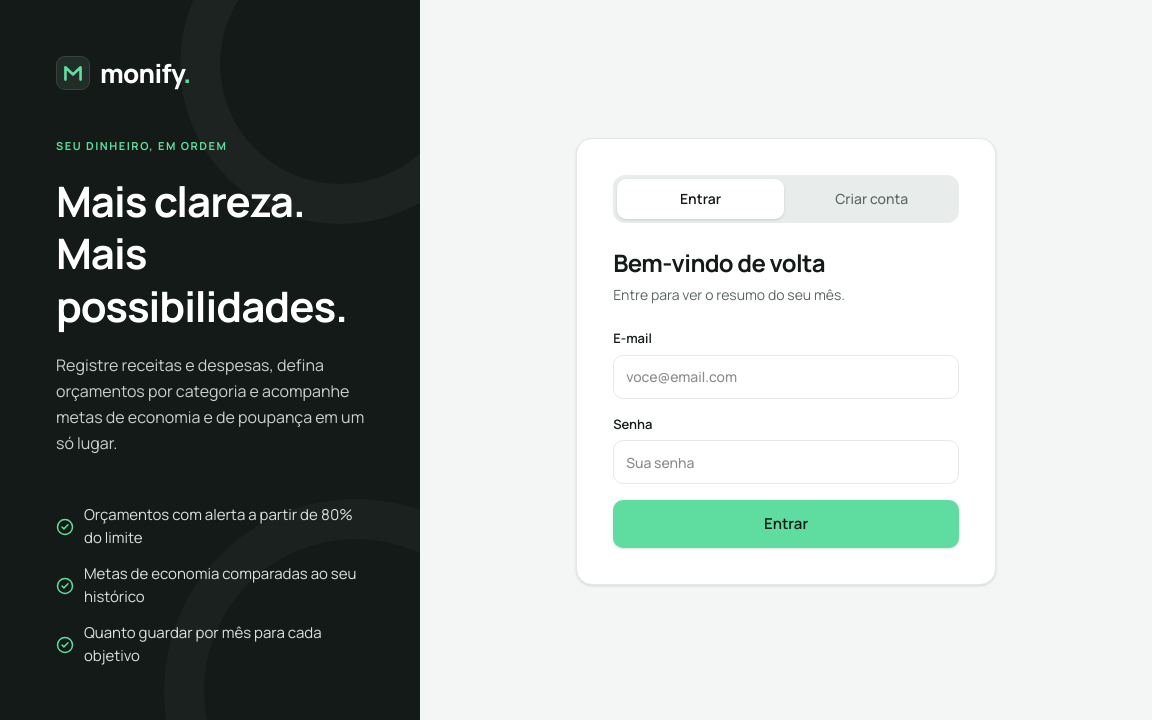
Entrar › deve exigir senha de 8 caracteres ao criar conta
The image size is (1152, 720).
Click the tab "Criar conta": click(872, 199) x1=788 y1=179 x2=955 y2=219
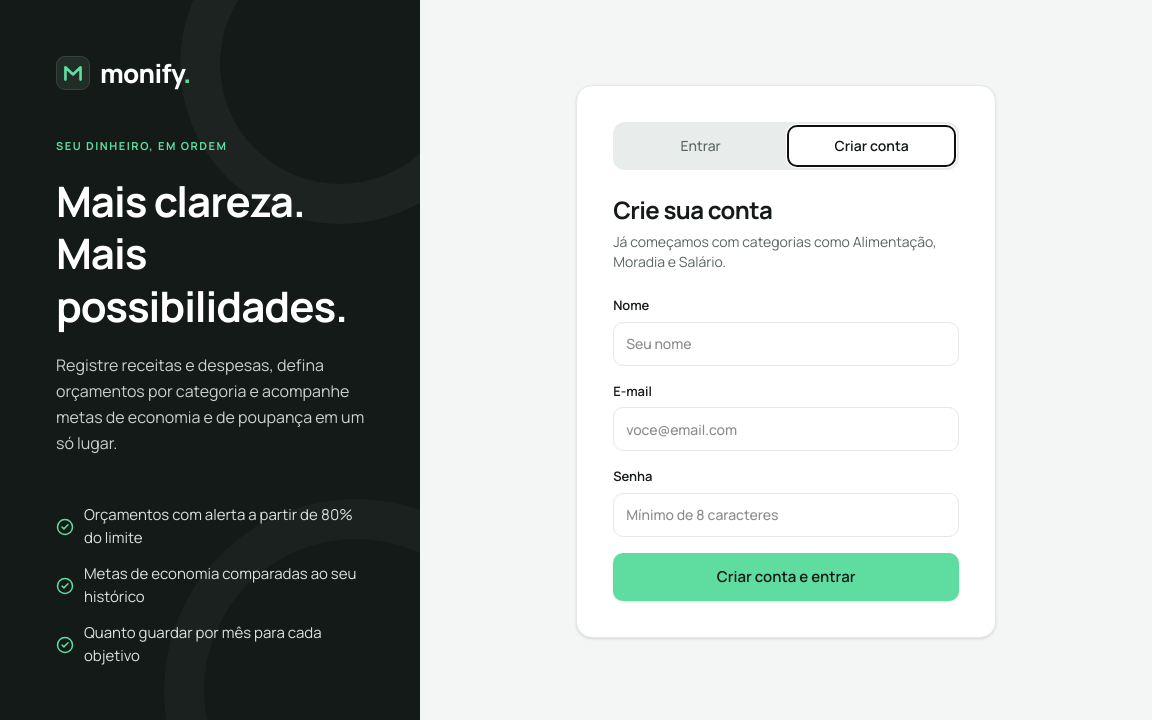
In the field labelled "Nome": (786, 344) x1=613 y1=322 x2=959 y2=366, type "Ana"
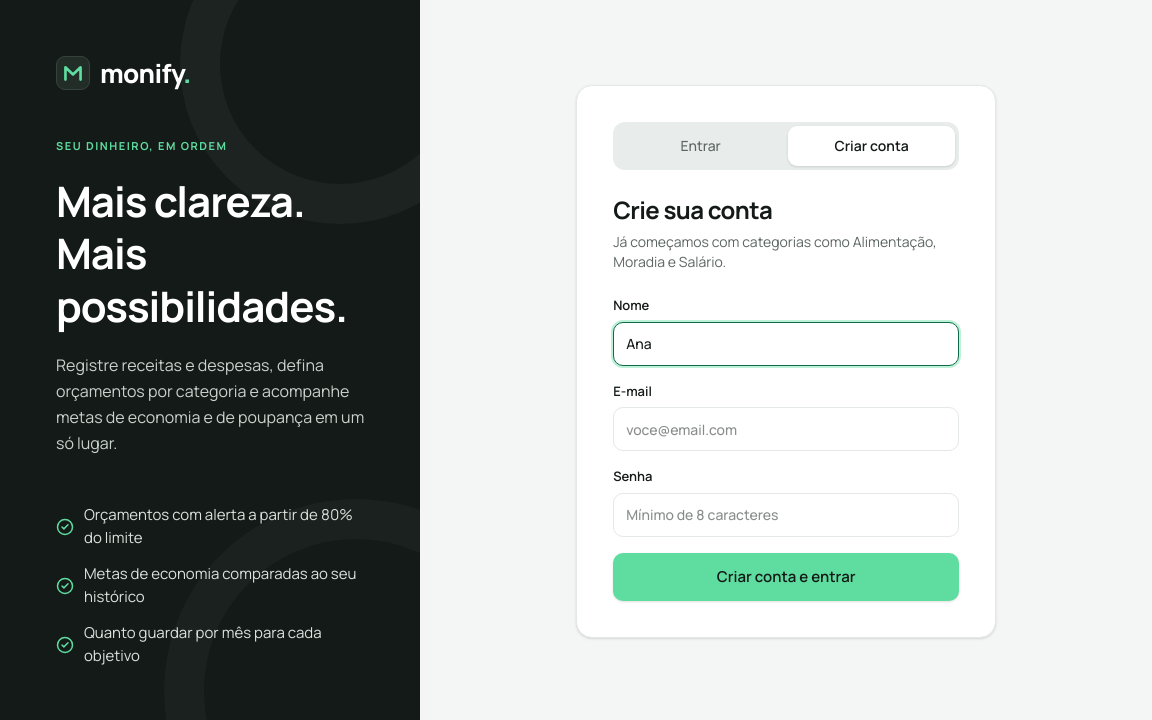
In the field labelled "E-mail": (786, 429) x1=613 y1=407 x2=959 y2=451, type "ana@email.com"
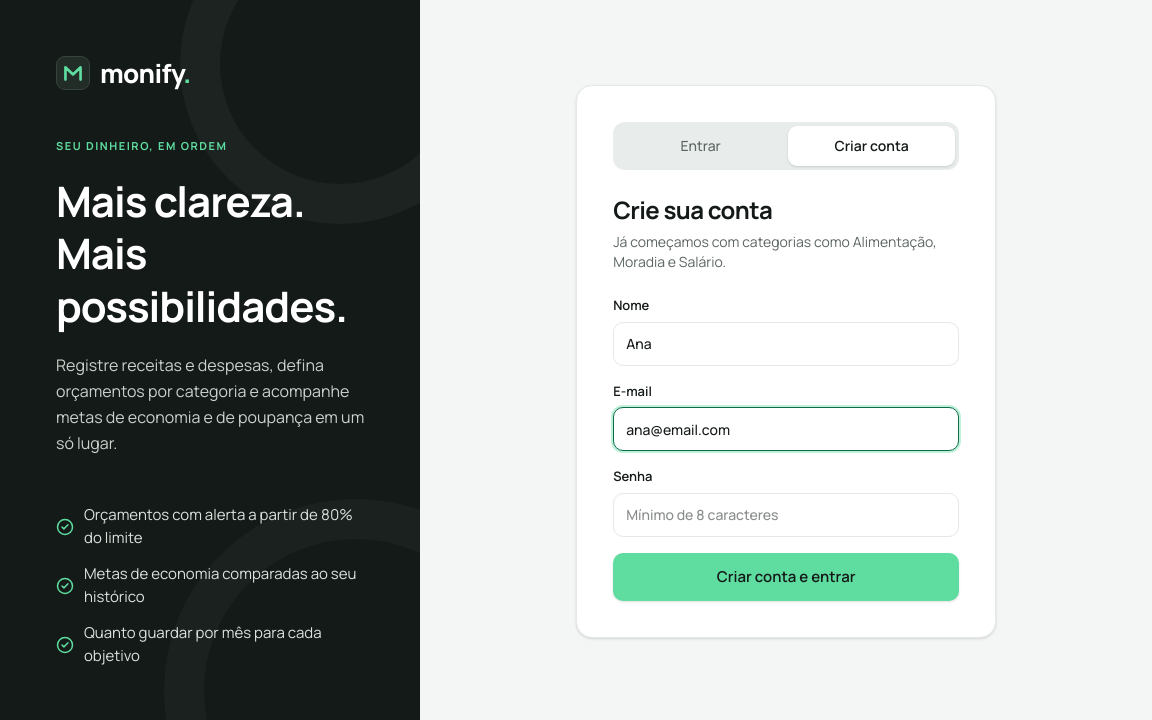
In the password field labelled "Senha": (786, 515) x1=613 y1=493 x2=959 y2=537, type "123456"
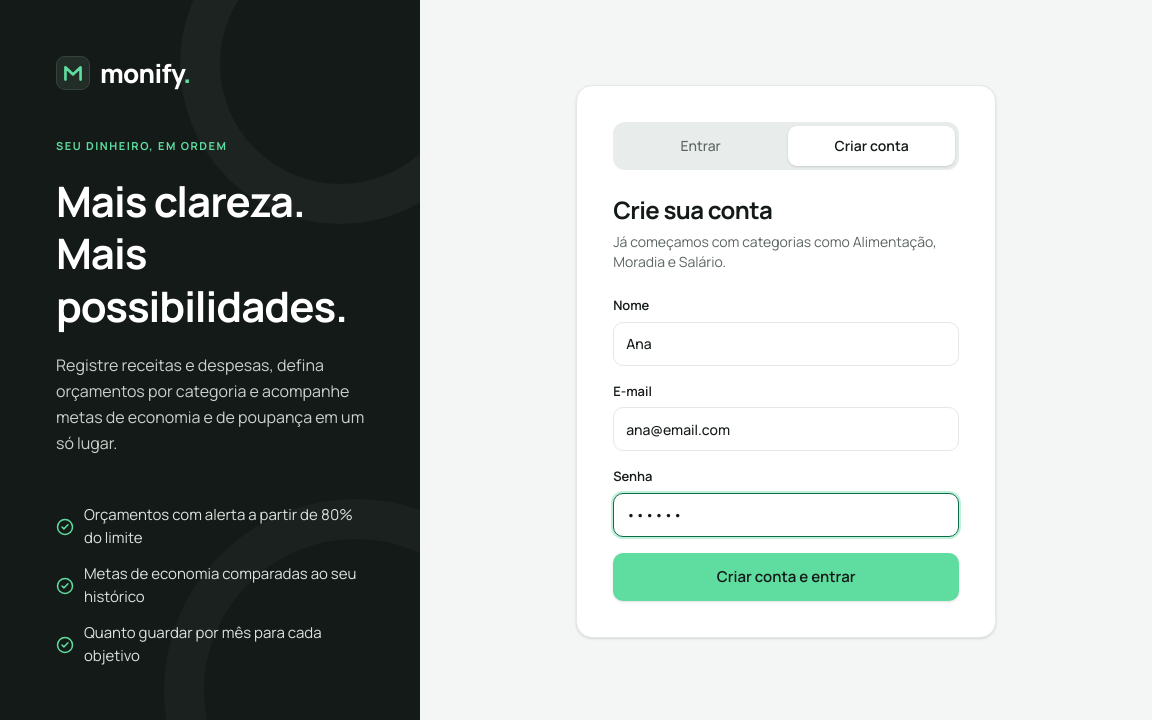
Click the button "Criar conta e entrar": click(786, 577) x1=613 y1=553 x2=959 y2=601
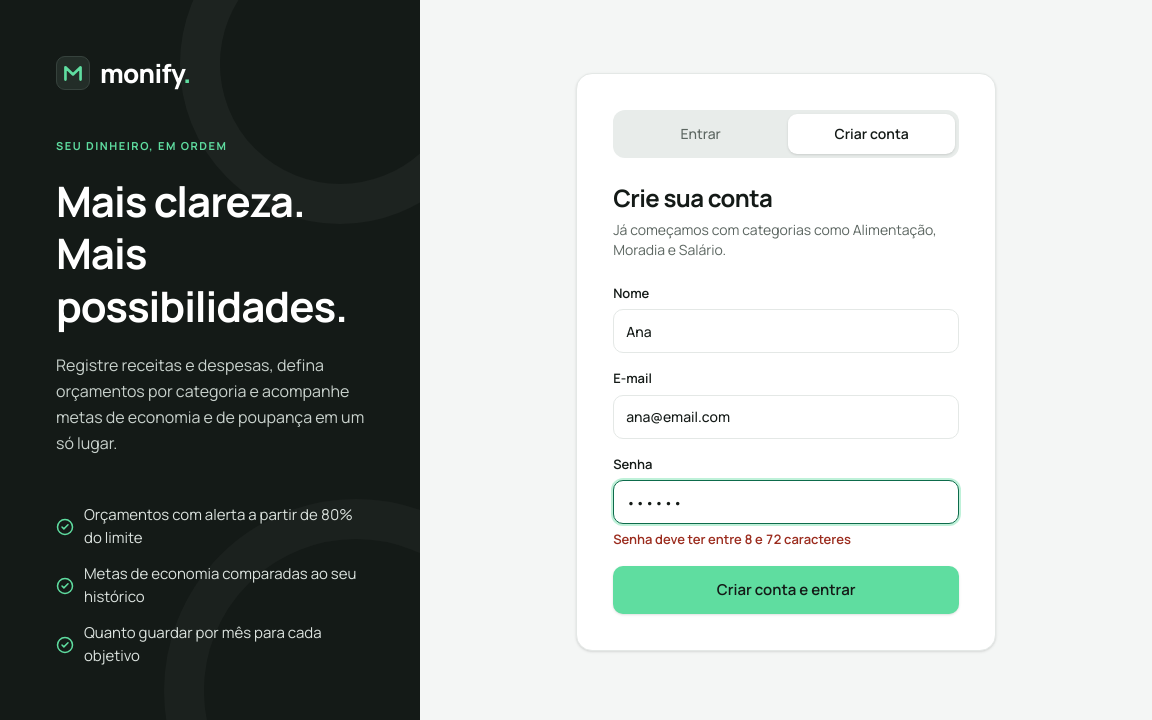
Now the text "Senha deve ter entre 8 e 72 caracteres" is shown, box x1=613 y1=530 x2=851 y2=548
